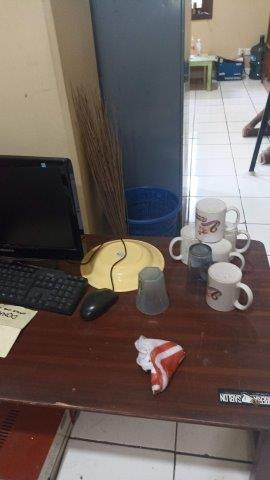plastik: (134, 337, 189, 395)
